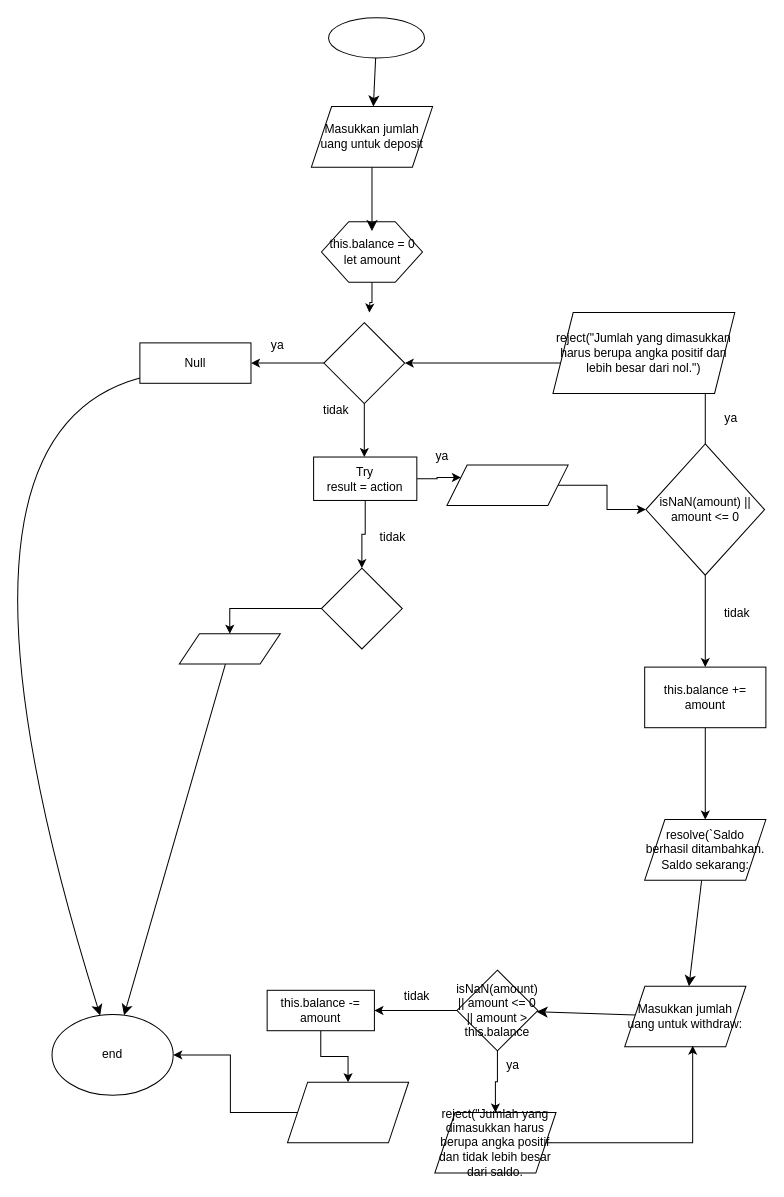
Image size: 784x1197. Some labels were removed from this diagram. The shapes that lost their labels are listed below. From the top down, each one's box as (x1, y1, x2, y2) in pixels, then its label:
(328, 17, 425, 58): start
(323, 322, 405, 403): amount === null
(446, 464, 568, 506): result
(320, 567, 402, 649): catch
(178, 633, 280, 664): error
(286, 1081, 409, 1143): resolve(`Saldo berhasil dikurangi. Saldo sekarang: ${this.balance}
